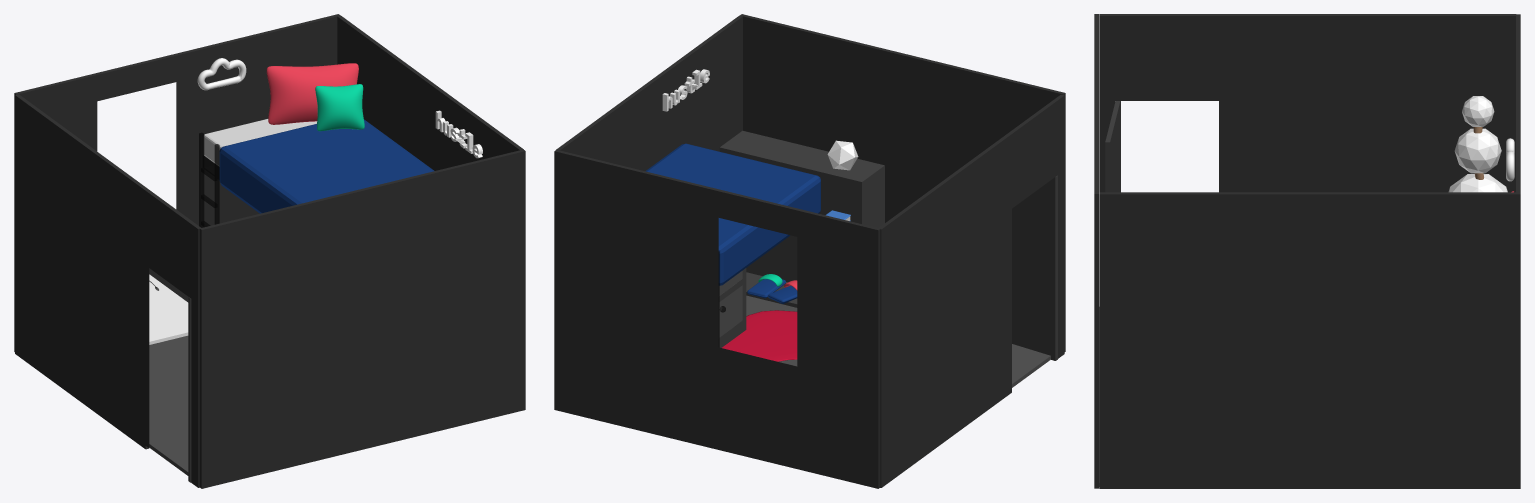
Rendered from room_base_model.glb.
3 views of the same model, side by side, from view 1: azimuth 30°, elevation 25°; view 2: azimuth 150°, elevation 25°; view 3: azimuth 270°, elevation 25° (orthographic). The views are drawn at different scales.
Visible parts, largest first — view 1: room_base; view 2: room_base; view 3: room_base.
Boxes of the visible parts, box(x1,y1,x2,y2) form: room_base: box(14, 14, 525, 488); room_base: box(554, 14, 1065, 488); room_base: box(1094, 14, 1520, 488).
Size of the model in its own units: 5.15 by 3.91 by 5.12.
